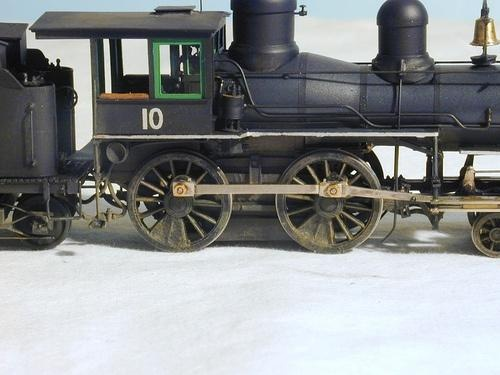train: (1, 1, 497, 262)
